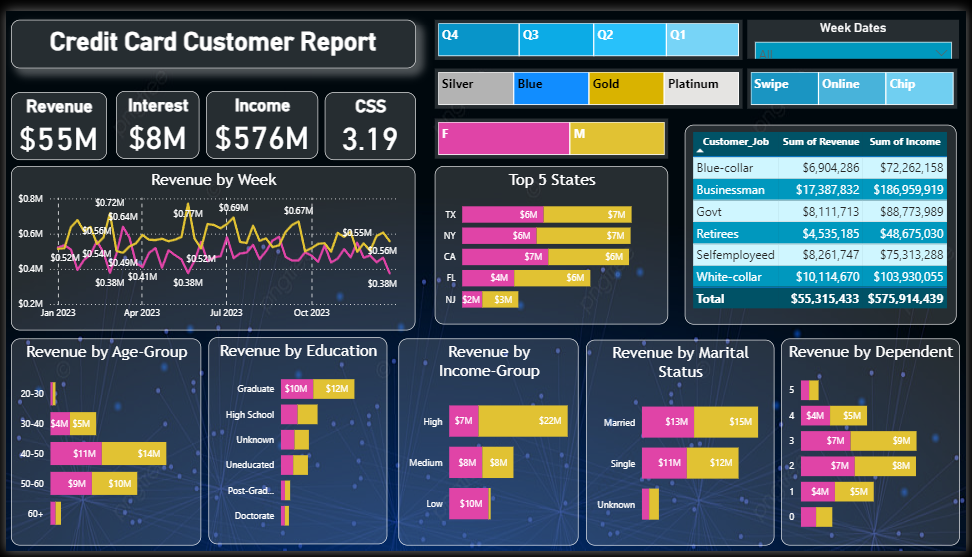

The page's visual inventory and layout, read from the dashboard file:
{"tool":"powerbi","page":{"name":"CC Customer Report","canvas":[1280,720],"ordinal":1},"visuals":[{"type":"textbox","box":[7.4,12.3,539.9,65],"z":0},{"type":"barChart","title":" Revenue by Marital Status","fields":{"Category":["customer.Marital_Status"],"Y":["Sum(credit_card.Revenue)"],"Series":["customer.Gender"]},"box":[773.9,437.7,251.1,274.4],"z":1000},{"type":"tableEx","fields":{"Values":["customer.Customer_Job","Sum(credit_card (3).Revenue)","Sum(customer.Income)"]},"box":[905.7,152.3,362.3,266.2],"z":2000},{"type":"card","title":"Revenue","fields":{"Values":["Sum(credit_card.Revenue)"]},"box":[6.9,108.4,127.6,90.6],"z":3000},{"type":"card","title":"Interest","fields":{"Values":["Sum(credit_card.Interest_Earned)"]},"box":[147.1,107.1,111.4,90],"z":4000},{"type":"card","title":"Income","fields":{"Values":["Sum(customer.Income)"]},"box":[266.2,107,149.6,90.6],"z":5000},{"type":"card","title":"CSS","fields":{"Values":["Avg(customer.Cust_Satisfaction_Score)"]},"box":[425.7,108.6,121.4,90],"z":6000},{"type":"slicer","title":"Week Dates","fields":{"Values":["credit_card.DateColumn"]},"box":[988,12.3,282.7,52.1],"z":7000},{"type":"treemap","fields":{"Group":["credit_card.Qtr"],"Values":["Avg(customer.Client_Num)"]},"box":[570.8,11,410.3,53.5],"z":8000},{"type":"treemap","fields":{"Group":["credit_card.Card_Category"],"Values":["Avg(customer.Client_Num)"]},"box":[570.8,76.8,410.3,53.5],"z":9000},{"type":"lineChart","title":"Revenue by Week","fields":{"Y":["Sum(credit_card.Revenue)"],"Series":["customer.Gender"],"Category":["credit_card.DateColumn.Variation.Date Hierarchy.Year","credit_card.DateColumn.Variation.Date Hierarchy.Month","credit_card.DateColumn.Variation.Date Hierarchy.Day"]},"box":[6.9,207.2,539.3,219.6],"z":10000},{"type":"treemap","fields":{"Group":["customer.Gender"],"Values":["CountNonNull(customer.Client_Num)"]},"box":[570.8,144.1,311.5,53.5],"z":11000},{"type":"barChart","title":"Revenue by Income-Group ","fields":{"Category":["customer.IncomeGroup"],"Y":["Sum(credit_card.Revenue)"],"Series":["customer.Gender"]},"box":[522.8,436.4,240.1,275.8],"z":12000},{"type":"barChart","title":"Revenue by Age-Group ","fields":{"Category":["customer.AgeGroup"],"Y":["Sum(credit_card.Revenue)"],"Series":["customer.Gender"]},"box":[6.9,436.4,253.9,275.8],"z":13000},{"type":"barChart","title":"Revenue by Dependent","fields":{"Category":["customer.Dependent_Count"],"Y":["Sum(credit_card.Revenue)"],"Series":["customer.Gender"]},"box":[1033.3,436.4,238.8,275.8],"z":14000},{"type":"barChart","title":"Top 5 States","fields":{"Category":["customer.state_cd"],"Y":["Sum(credit_card.Revenue)"],"Series":["customer.Gender"]},"box":[570.8,207.2,311.5,211.3],"z":15000},{"type":"barChart","title":"Revenue by Education","fields":{"Category":["customer.Education_Level"],"Y":["Sum(credit_card.Revenue)"],"Series":["customer.Gender"]},"box":[270.3,435,238.8,275.8],"z":16000},{"type":"treemap","fields":{"Values":["Avg(customer.Client_Num)"],"Group":["credit_card.Use Chip"]},"box":[988,76.8,279.9,53.5],"z":17000}]}

Visuals, with their boxes in screenshot pixels (x1, y1, x2, y2), scaled from the page's 1280x720 canvas onto the 972x557 screenshot:
textbox: detection(6, 10, 416, 60)
" Revenue by Marital Status" barChart: detection(588, 339, 778, 551)
tableEx - customer.Customer_Job x Sum(credit_card (3).Revenue): detection(688, 118, 963, 324)
"Revenue" card: detection(5, 84, 102, 154)
"Interest" card: detection(112, 83, 196, 152)
"Income" card: detection(202, 83, 316, 153)
"CSS" card: detection(323, 84, 415, 154)
"Week Dates" slicer: detection(750, 10, 965, 50)
treemap - credit_card.Qtr x Avg(customer.Client_Num): detection(433, 9, 745, 50)
treemap - credit_card.Card_Category x Avg(customer.Client_Num): detection(433, 59, 745, 101)
"Revenue by Week" lineChart: detection(5, 160, 415, 330)
treemap - customer.Gender x CountNonNull(customer.Client_Num): detection(433, 111, 670, 153)
"Revenue by Income-Group " barChart: detection(397, 338, 579, 551)
"Revenue by Age-Group " barChart: detection(5, 338, 198, 551)
"Revenue by Dependent" barChart: detection(785, 338, 966, 551)
"Top 5 States" barChart: detection(433, 160, 670, 324)
"Revenue by Education" barChart: detection(205, 337, 387, 550)
treemap - Avg(customer.Client_Num) x credit_card.Use Chip: detection(750, 59, 963, 101)
